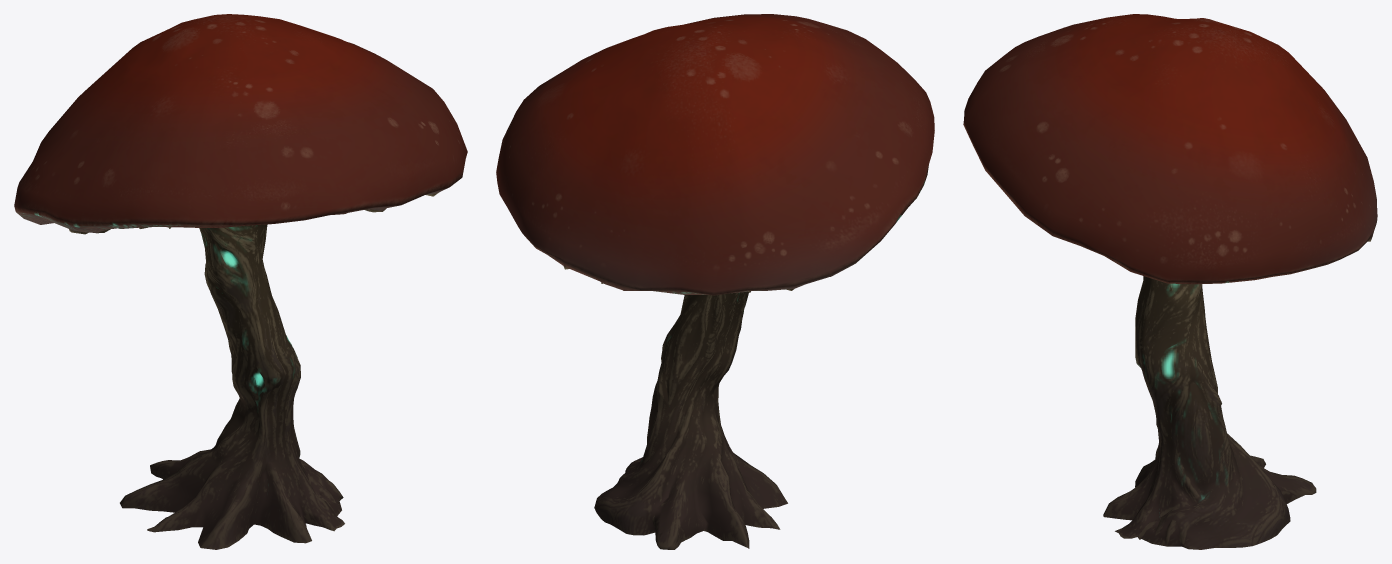
File: mushroom__tree.glb
The picture shows the model from 3 angles, left to right: view 1: azimuth 30°, elevation 25°; view 2: azimuth 150°, elevation 25°; view 3: azimuth 270°, elevation 25°; orthographic projection. The views are drawn at different scales.
Parts seen in each view (by area): view 1: Plane.002; view 2: Plane.002; view 3: Plane.002.
Part boxes in pixels (bbox=[...]): Plane.002: bbox=[14, 14, 467, 549]; Plane.002: bbox=[496, 14, 934, 549]; Plane.002: bbox=[963, 14, 1377, 549].
Size of the model in its own units: 3.71 by 4.3 by 3.41.
1 material, 1 textured.
